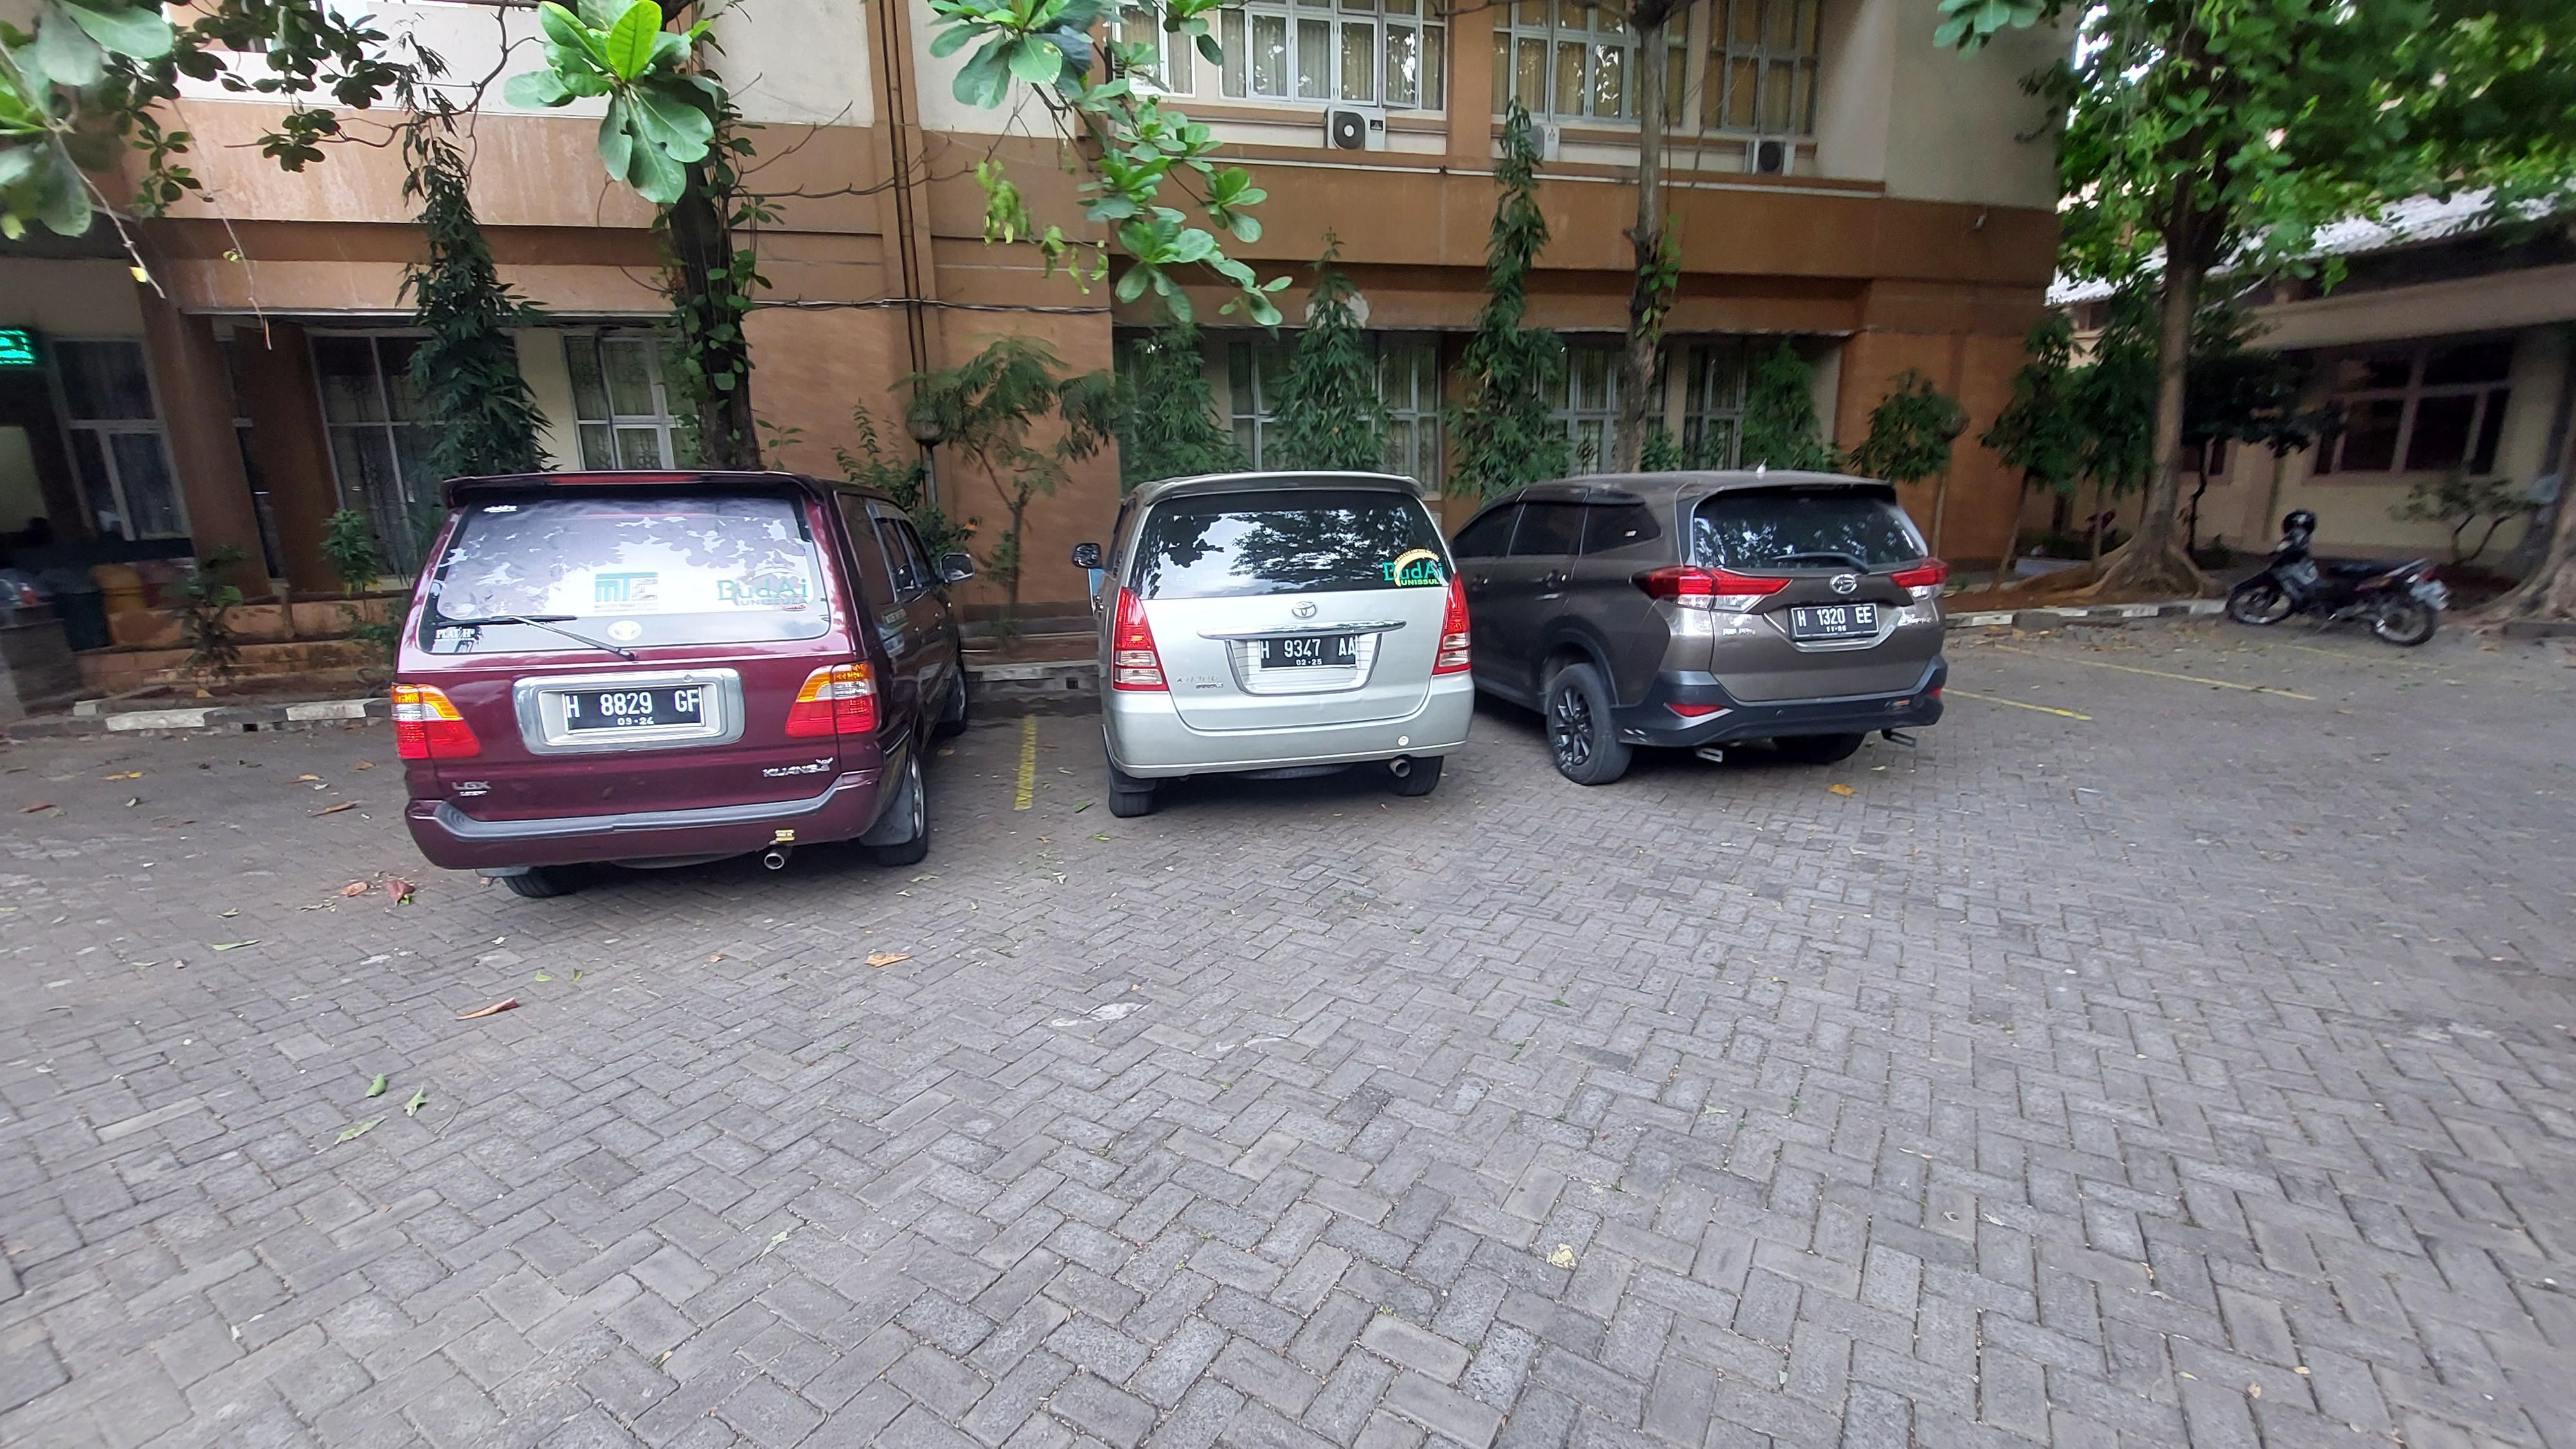empty: (1985, 624, 2428, 699), (1942, 635, 2315, 723)
occupied: (390, 477, 1033, 886), (1461, 468, 2086, 793), (1019, 471, 1492, 824)
